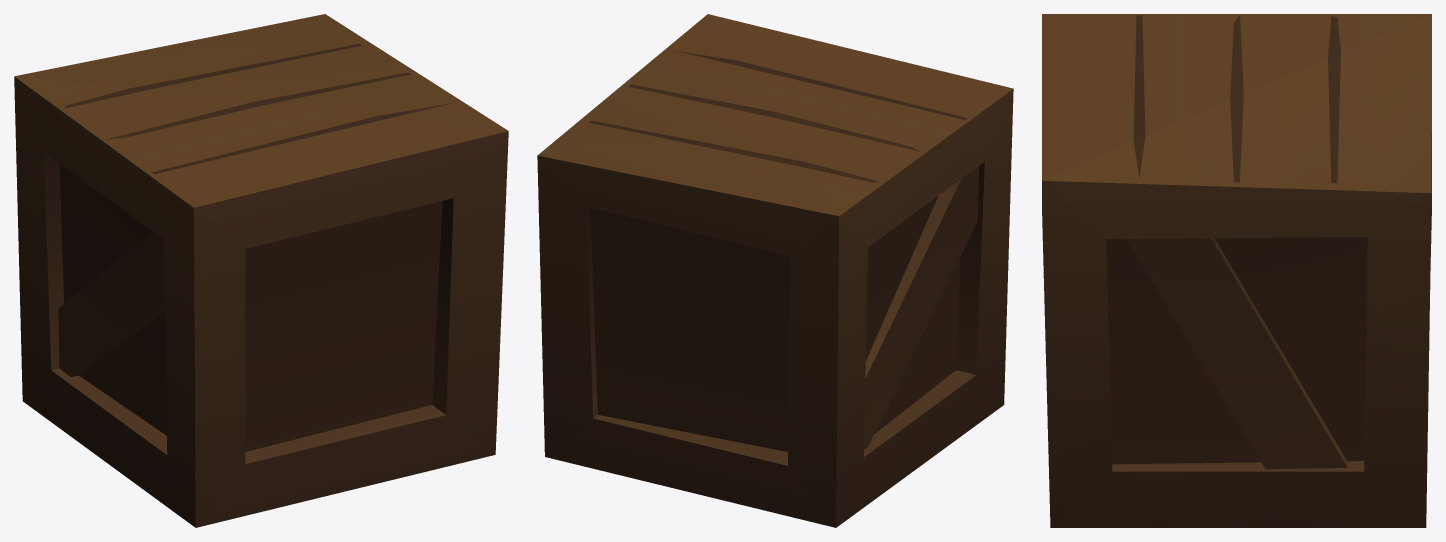
Rendered from Wooden_Box_1A.fbx.
3 renders of one model, left to right at view 1: azimuth 30°, elevation 25°; view 2: azimuth 150°, elevation 25°; view 3: azimuth 270°, elevation 25°, orthographic. The views are drawn at different scales.
Parts seen in each view (by area): view 1: Wooden_Box_1A; view 2: Wooden_Box_1A; view 3: Wooden_Box_1A.
Boxes of the visible parts, x1,y1,x2,y2 form: Wooden_Box_1A: [14, 14, 508, 527]; Wooden_Box_1A: [537, 14, 1013, 527]; Wooden_Box_1A: [1042, 14, 1431, 527].
Bounding box in the file's own units: 1.01 × 0.9982 × 1.
